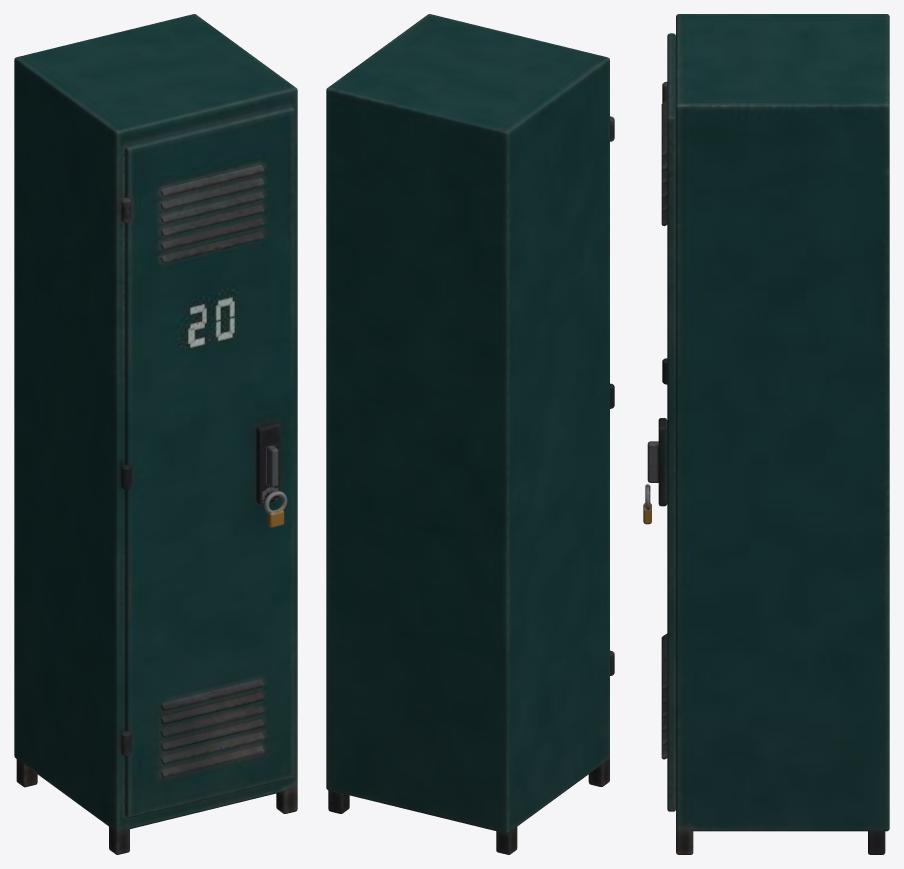
Rendered from locker.glb.
3 views of the same model, side by side, from view 1: azimuth 30°, elevation 25°; view 2: azimuth 150°, elevation 25°; view 3: azimuth 270°, elevation 25° (orthographic). The views are drawn at different scales.
Parts seen in each view (by area): view 1: locker; view 2: locker; view 3: locker.
Part boxes in pixels (bbox=[...]): locker: bbox=[14, 14, 297, 854]; locker: bbox=[326, 14, 614, 854]; locker: bbox=[643, 14, 889, 854].
Bounding box in the file's own units: 0.5 × 1.9 × 0.565.
Materials: 1 (1 with a texture image).
